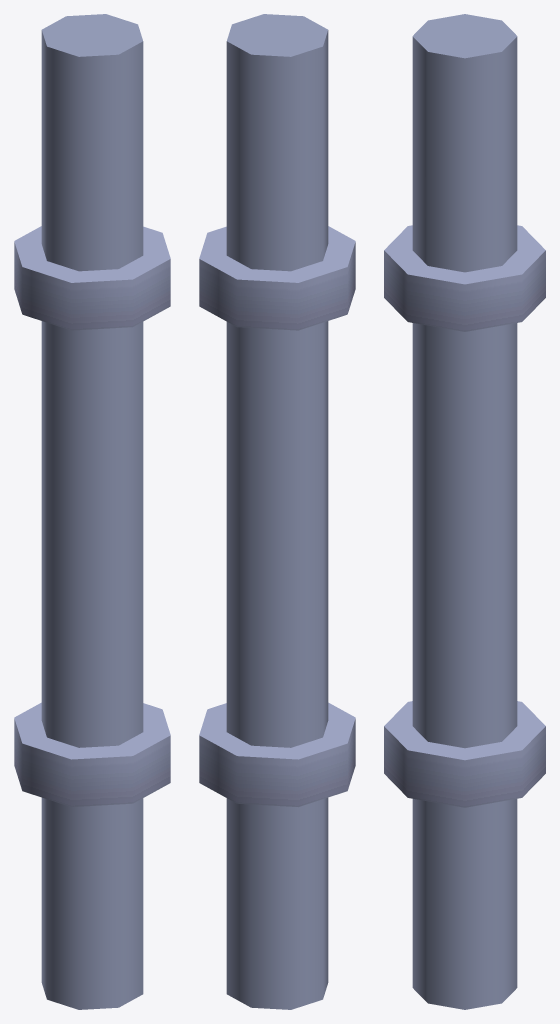
Rendered from gutter-vertical.glb.
3 views of the same model, side by side, from view 1: azimuth 30°, elevation 25°; view 2: azimuth 150°, elevation 25°; view 3: azimuth 270°, elevation 25° (orthographic).
Parts seen in each view (by area): view 1: gutter-vertical; view 2: gutter-vertical; view 3: gutter-vertical.
Boxes of the visible parts, x1,y1,x2,y2 form: gutter-vertical: [14, 14, 170, 1009]; gutter-vertical: [199, 14, 355, 1009]; gutter-vertical: [384, 14, 545, 1009].
Bounding box in the file's own units: 0.3081 × 2 × 0.3081.
1 material, 1 textured.
